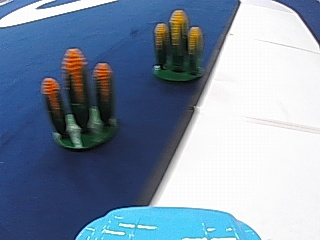corn: (42, 61, 117, 152), (151, 6, 205, 85)
